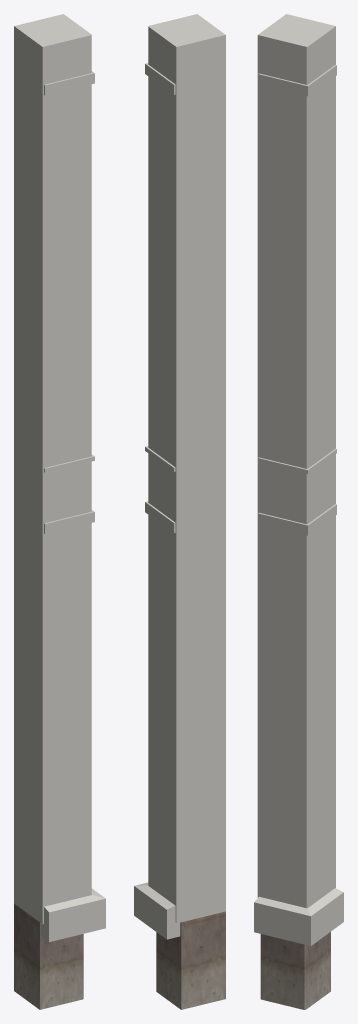
File: h_corner.glb
The picture shows the model from 3 angles, left to right: view 1: azimuth 30°, elevation 25°; view 2: azimuth 210°, elevation 25°; view 3: azimuth 330°, elevation 25°; orthographic projection.
Visible parts, largest first — view 1: h_corner_trim, h_corner_stone; view 2: h_corner_trim, h_corner_stone; view 3: h_corner_trim, h_corner_stone.
Part boxes in pixels (x1=…): h_corner_trim: x1=14, y1=14, x2=105, y2=942; h_corner_stone: x1=14, y1=903, x2=83, y2=1009; h_corner_trim: x1=134, y1=14, x2=225, y2=939; h_corner_stone: x1=156, y1=911, x2=225, y2=1009; h_corner_trim: x1=254, y1=14, x2=343, y2=945; h_corner_stone: x1=260, y1=932, x2=330, y2=1009.
Size of the model in its own units: 0.417 by 6.6 by 0.417.
2 materials, 1 textured.
